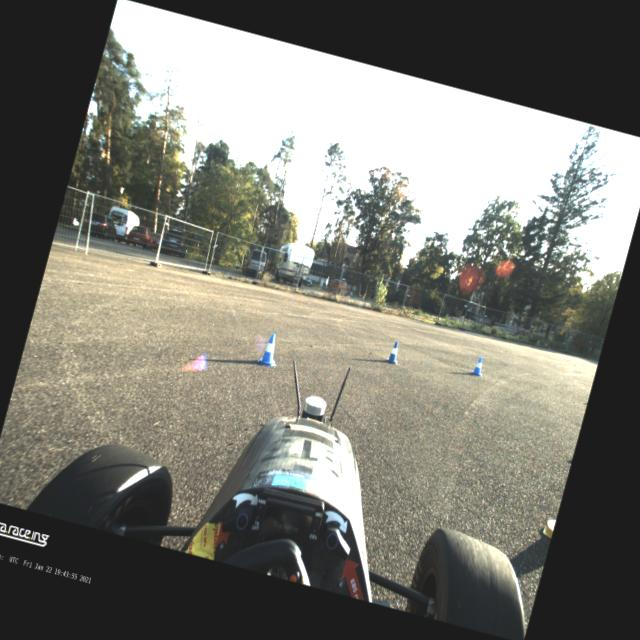blue_cone: (256, 331, 284, 369), (386, 339, 402, 364), (470, 354, 486, 376)
